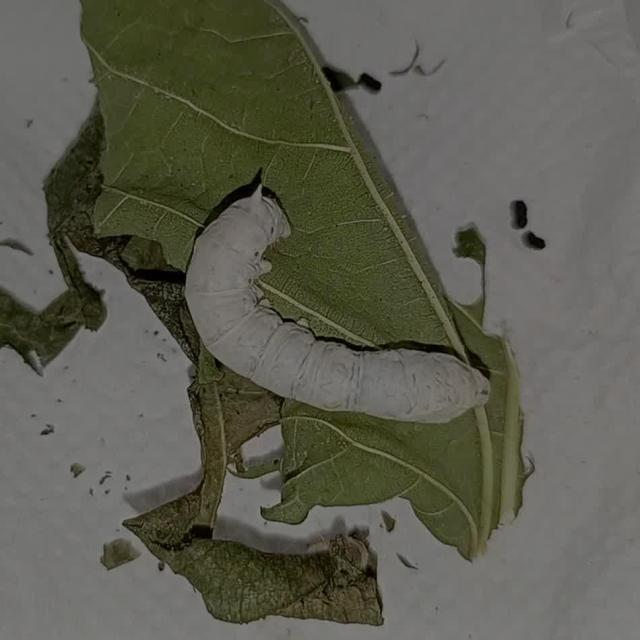Healthy: (156, 162, 518, 472)
